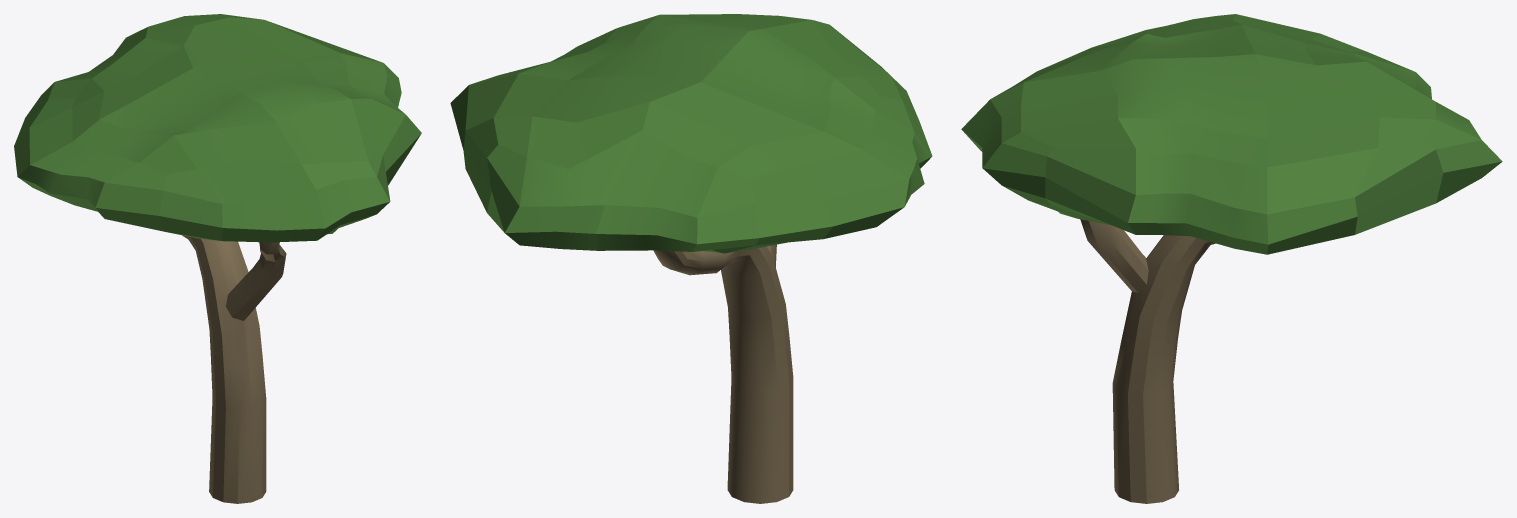
File: arbre3.fbx
3 views of the same model, side by side, from view 1: azimuth 30°, elevation 25°; view 2: azimuth 150°, elevation 25°; view 3: azimuth 270°, elevation 25° (orthographic). The views are drawn at different scales.
Parts seen in each view (by area): view 1: arbre3; view 2: arbre3; view 3: arbre3.
Part boxes in pixels (box(x1,y1,x2,y2)): arbre3: box(14, 14, 421, 503); arbre3: box(450, 14, 932, 503); arbre3: box(961, 14, 1502, 503).
Bounding box in the file's own units: 9.39 × 9.01 × 10.05.
